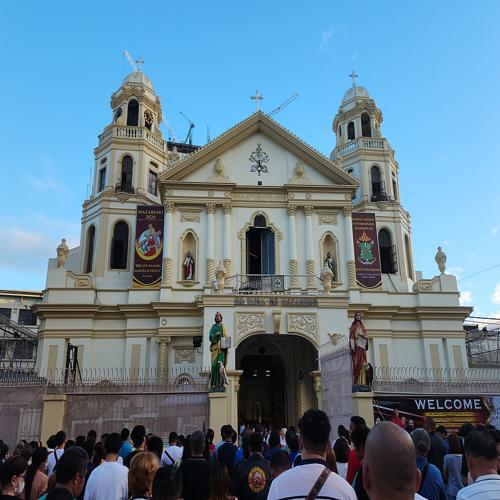Quiapo Church: (45, 44, 471, 445)
